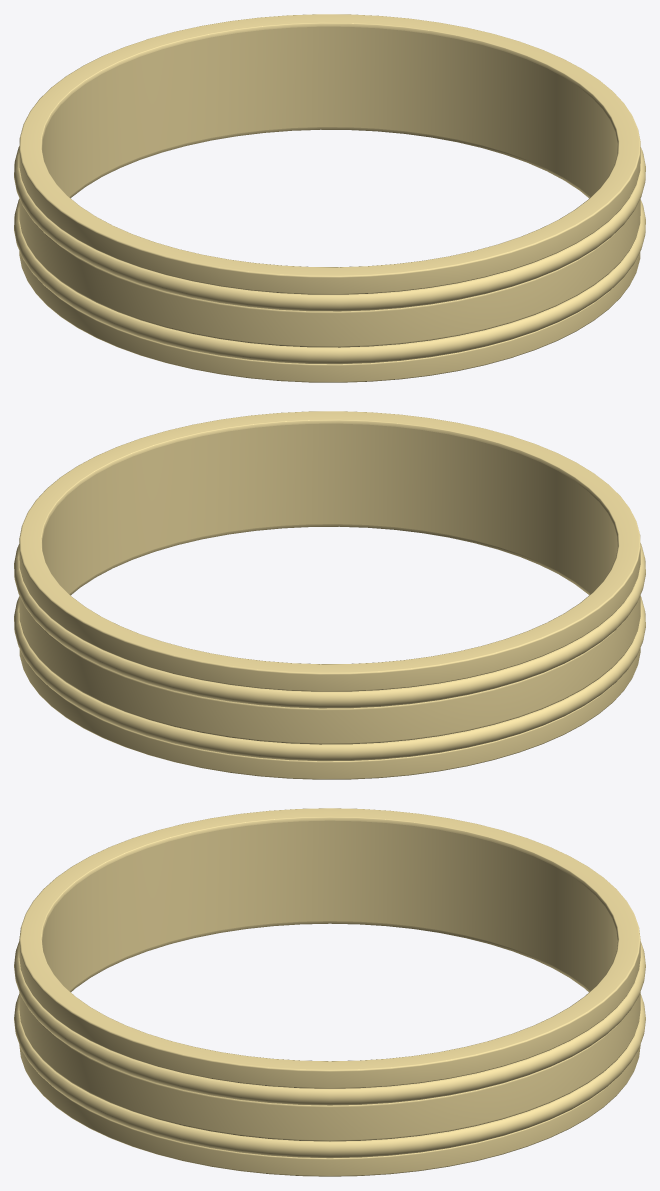
3 renders of one model, top to bottom at view 1: azimuth 30°, elevation 25°; view 2: azimuth 150°, elevation 25°; view 3: azimuth 270°, elevation 25°, orthographic.
Visible parts, largest first — view 1: Base_Metal, Engraving_Metal, Finishing_Metal; view 2: Base_Metal, Engraving_Metal, Finishing_Metal; view 3: Base_Metal, Engraving_Metal, Finishing_Metal.
Boxes of the visible parts, x1,y1,x2,y2 form: Base_Metal: (19, 14, 640, 382); Engraving_Metal: (42, 26, 617, 196); Finishing_Metal: (14, 146, 645, 364); Base_Metal: (19, 411, 640, 779); Engraving_Metal: (42, 423, 617, 593); Finishing_Metal: (14, 543, 645, 761); Base_Metal: (19, 808, 640, 1176); Engraving_Metal: (42, 820, 617, 990); Finishing_Metal: (14, 941, 645, 1158).
Size of the model in its own units: 1.87 by 0.35 by 1.87.
